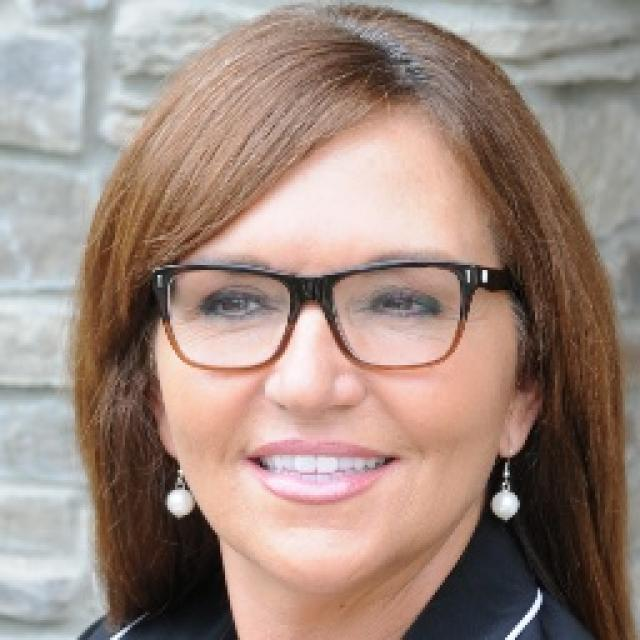earlobe: (498, 404, 530, 460)
eye: (366, 288, 438, 319), (199, 288, 271, 318)
nose: (251, 391, 372, 459)
